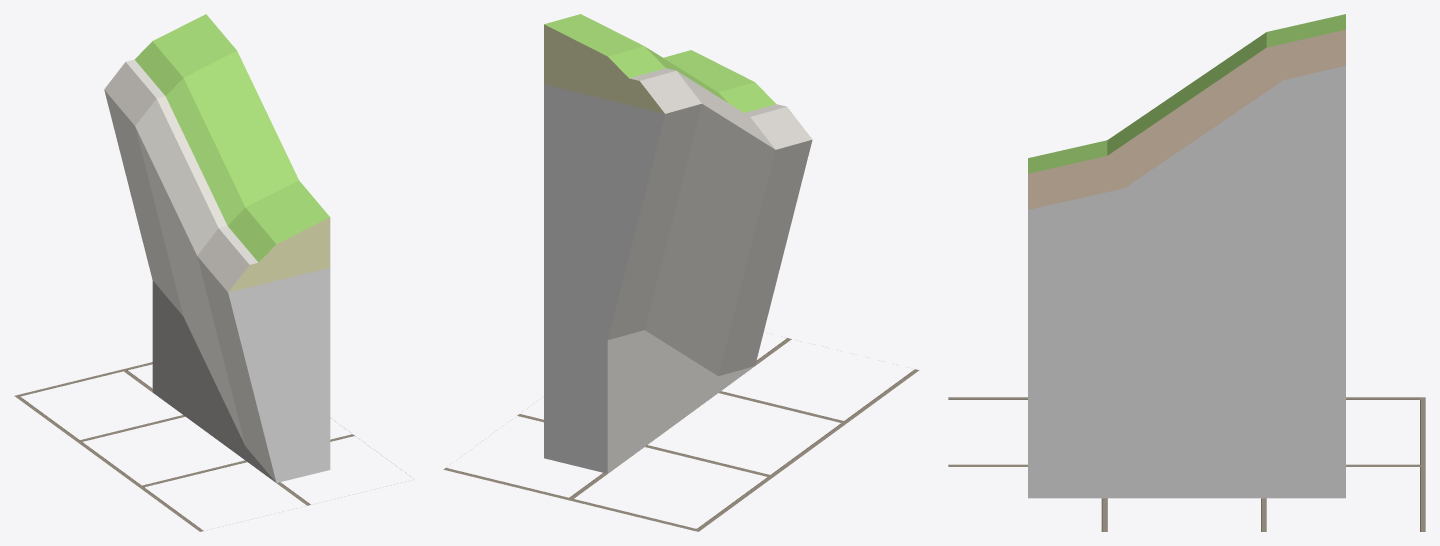
File: Basic_Incline_Top_2x2.glb
The picture shows the model from 3 angles, left to right: view 1: azimuth 30°, elevation 25°; view 2: azimuth 150°, elevation 25°; view 3: azimuth 270°, elevation 25°; orthographic projection. The views are drawn at different scales.
Parts seen in each view (by area): view 1: Basic_Incline_Top_2x2, Floor; view 2: Basic_Incline_Top_2x2, Floor; view 3: Basic_Incline_Top_2x2, Floor.
Part boxes in pixels (x1,y1,x2,y2): Basic_Incline_Top_2x2: (104,14,330,482); Floor: (14,362,410,531); Basic_Incline_Top_2x2: (544,14,812,473); Floor: (443,338,919,531); Basic_Incline_Top_2x2: (1028,14,1345,498); Floor: (948,397,1425,531).
Bounding box in the file's own units: 200 × 325 × 300.
Materials: 6 (1 with a texture image).
